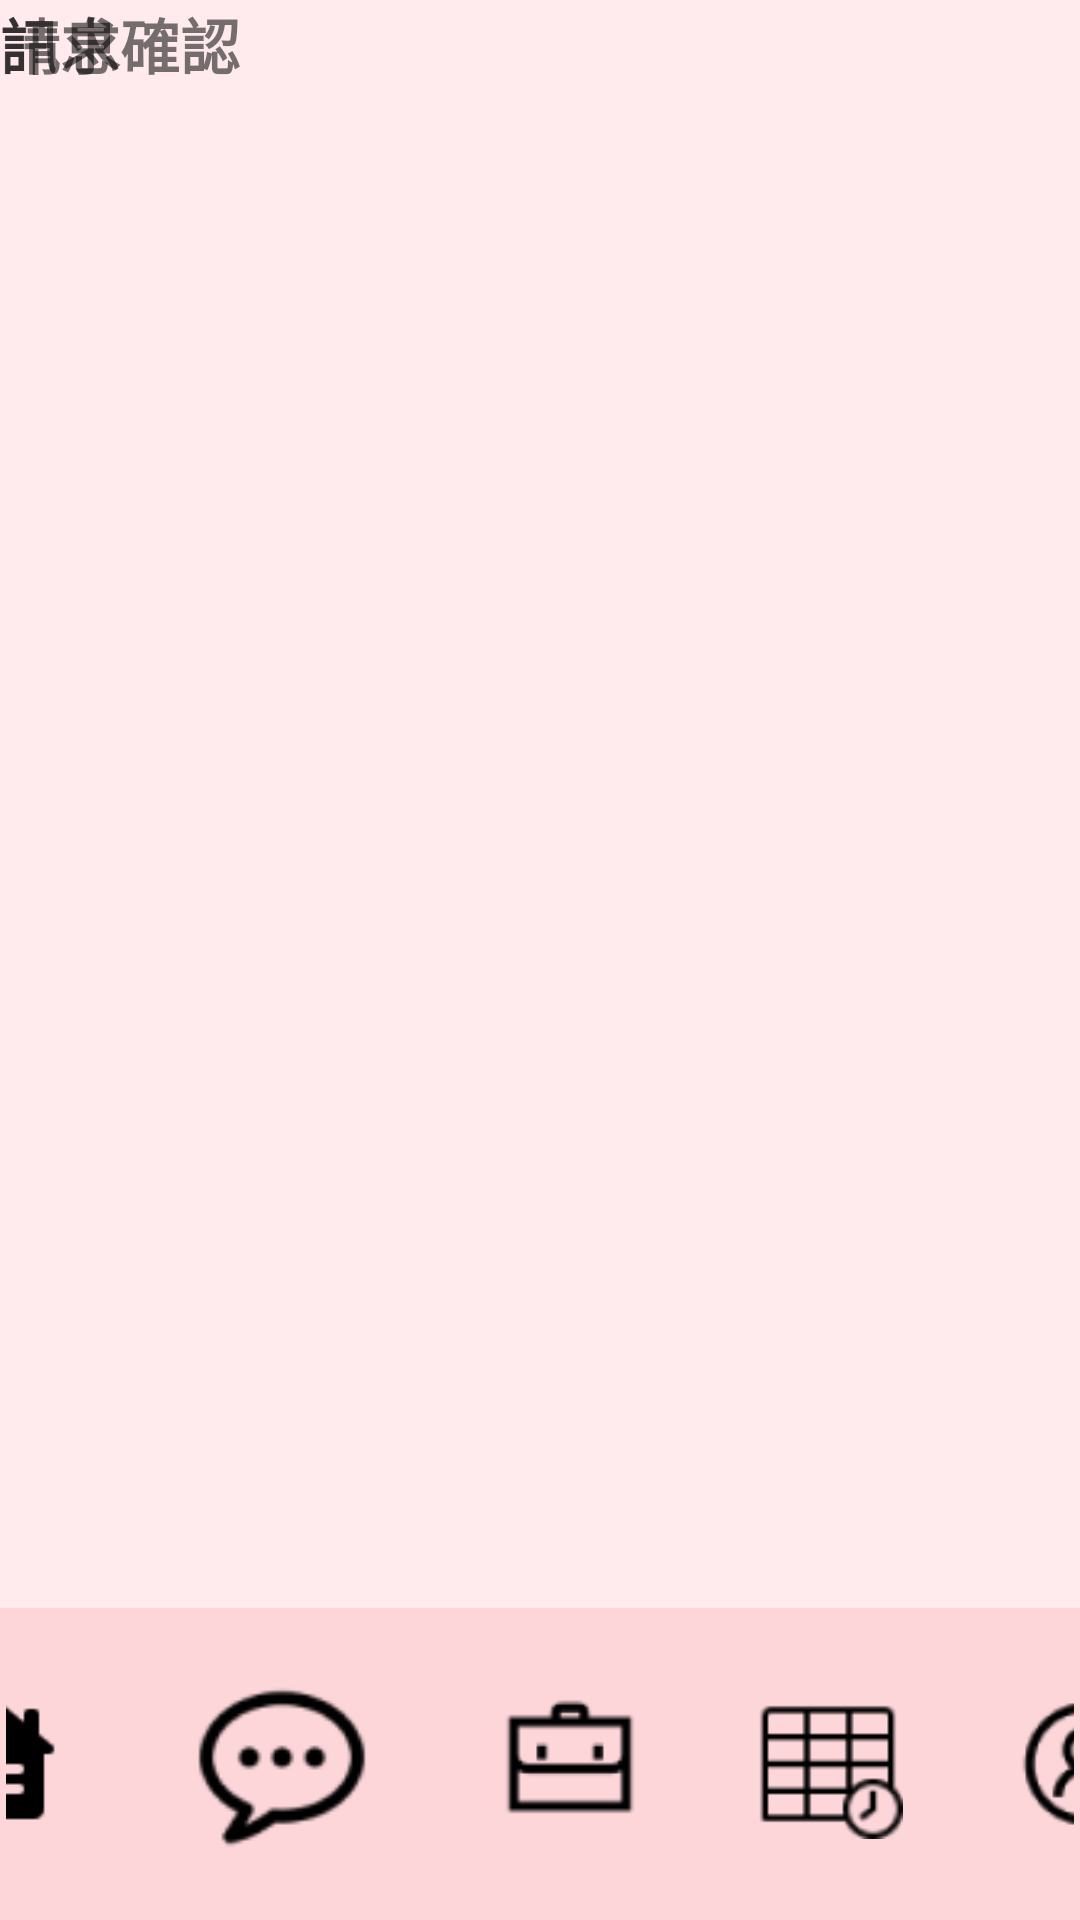

Icons on this 1080px×1920px Android screen, each with the point to tap as (x=x, y=y):
chatbubble: (x=282, y=1768)
timetable: (x=831, y=1772)
